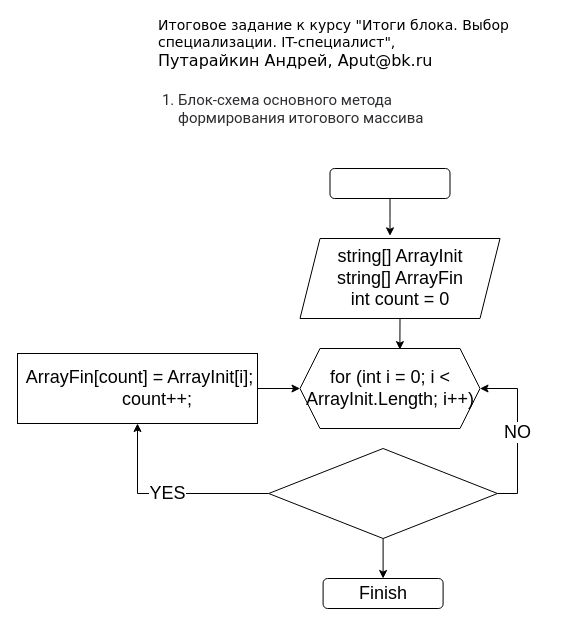
Image size: 572x626. Some labels were removed from this diagram. The shapes that lost their labels are listed below. From the top down, each one's box as (x1, y1, x2, y2) in pixels, then its label:
(329, 168, 450, 198): GetEditArray
(268, 448, 498, 538): if(ArrayInit[i].Length <= 3)
